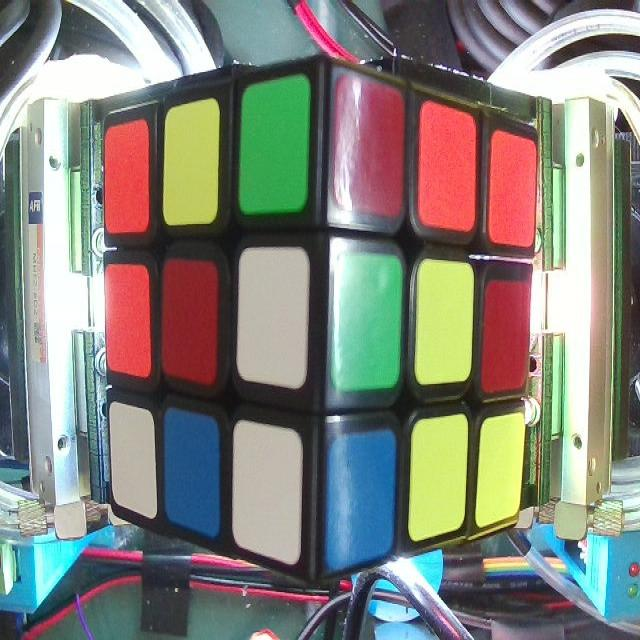b: (329, 434, 396, 566), (163, 409, 221, 533)
g: (240, 76, 308, 216), (335, 254, 399, 390)
o: (419, 104, 478, 231), (102, 118, 148, 236), (105, 262, 151, 376), (492, 132, 537, 248)
r: (338, 74, 405, 218), (162, 260, 218, 387), (485, 282, 530, 392)
w: (236, 248, 309, 387), (234, 423, 303, 570), (110, 405, 156, 520)
y: (418, 258, 472, 392), (409, 419, 467, 538), (164, 103, 218, 222), (479, 414, 524, 519)
